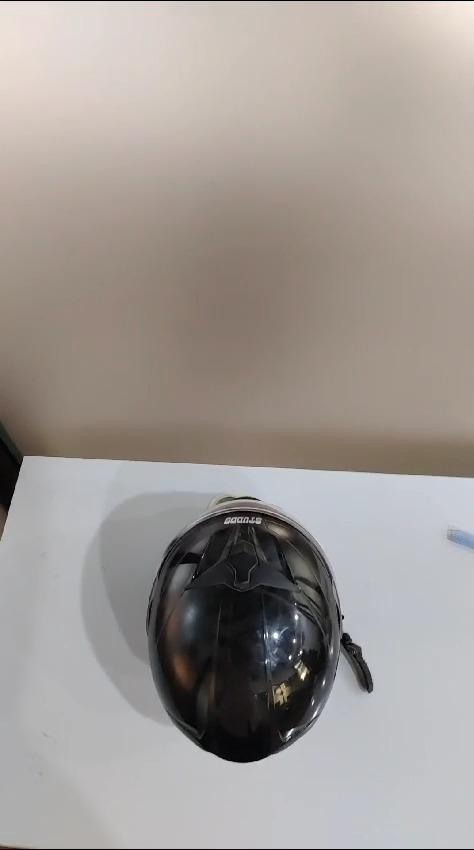Helmet: (144, 488, 354, 774)
